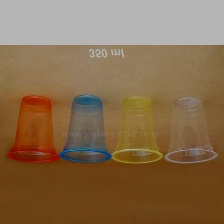glass: (107, 93, 166, 167), (160, 93, 219, 167), (56, 89, 113, 165), (5, 92, 63, 164)
